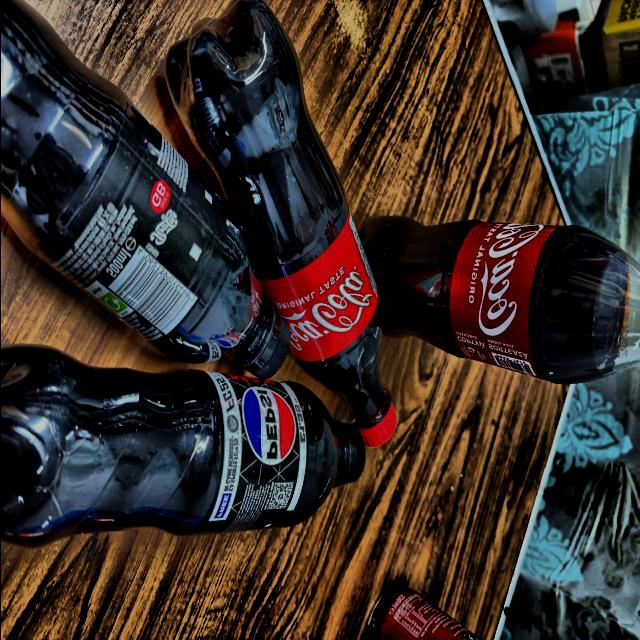coke-bottle: (170, 1, 408, 434), (352, 202, 640, 370)
pepsi-bottle: (0, 0, 296, 360), (0, 352, 354, 546)
